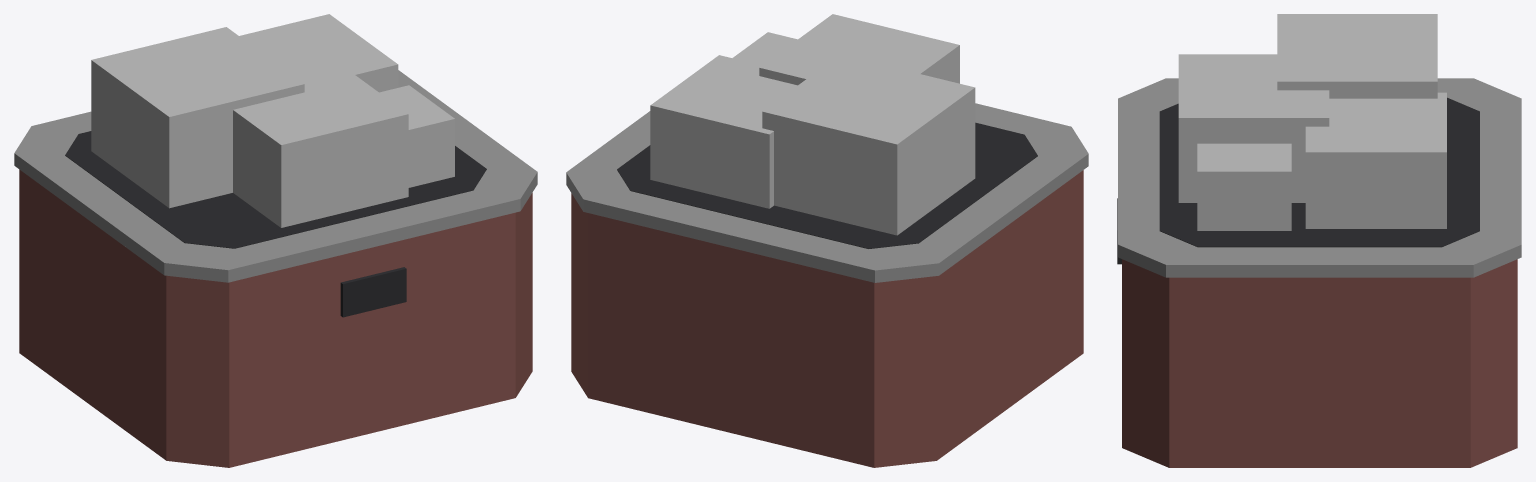
The model's file is vge_spacer_box_component.obj.
The picture shows the model from 3 angles, left to right: view 1: azimuth 30°, elevation 25°; view 2: azimuth 150°, elevation 25°; view 3: azimuth 270°, elevation 25°; orthographic projection. The views are drawn at different scales.
Parts seen in each view (by area): view 1: vge_spacer_box_component_0, vge_spacer_box_component_4, vge_spacer_box_component_1, vge_spacer_box_component_6, vge_spacer_box_component_2, vge_spacer_box_component_5, vge_spacer_box_component_7, vge_spacer_box_component_3; view 2: vge_spacer_box_component_0, vge_spacer_box_component_4, vge_spacer_box_component_1, vge_spacer_box_component_5, vge_spacer_box_component_2, vge_spacer_box_component_6, vge_spacer_box_component_7; view 3: vge_spacer_box_component_0, vge_spacer_box_component_1, vge_spacer_box_component_5, vge_spacer_box_component_6, vge_spacer_box_component_4, vge_spacer_box_component_2, vge_spacer_box_component_7.
Part boxes in pixels (box(x1,y1,x2,y2)): vge_spacer_box_component_0: box(19, 169, 532, 467); vge_spacer_box_component_4: box(91, 27, 304, 208); vge_spacer_box_component_1: box(14, 70, 537, 282); vge_spacer_box_component_6: box(233, 60, 408, 227); vge_spacer_box_component_2: box(65, 131, 486, 248); vge_spacer_box_component_5: box(239, 14, 398, 92); vge_spacer_box_component_7: box(379, 85, 454, 187); vge_spacer_box_component_3: box(340, 267, 406, 317); vge_spacer_box_component_0: box(571, 170, 1083, 467); vge_spacer_box_component_4: box(762, 54, 975, 235); vge_spacer_box_component_1: box(566, 103, 1088, 282); vge_spacer_box_component_5: box(650, 55, 797, 208); vge_spacer_box_component_2: box(617, 122, 1037, 248); vge_spacer_box_component_6: box(759, 14, 959, 85); vge_spacer_box_component_7: box(732, 32, 797, 65); vge_spacer_box_component_0: box(1122, 259, 1517, 467); vge_spacer_box_component_1: box(1118, 78, 1521, 277); vge_spacer_box_component_5: box(1305, 92, 1446, 228); vge_spacer_box_component_6: box(1178, 54, 1329, 202); vge_spacer_box_component_4: box(1277, 14, 1437, 98); vge_spacer_box_component_2: box(1159, 97, 1479, 247); vge_spacer_box_component_7: box(1197, 143, 1291, 230).
Bounding box in the file's own units: 0.9384 × 0.7 × 0.8584.
